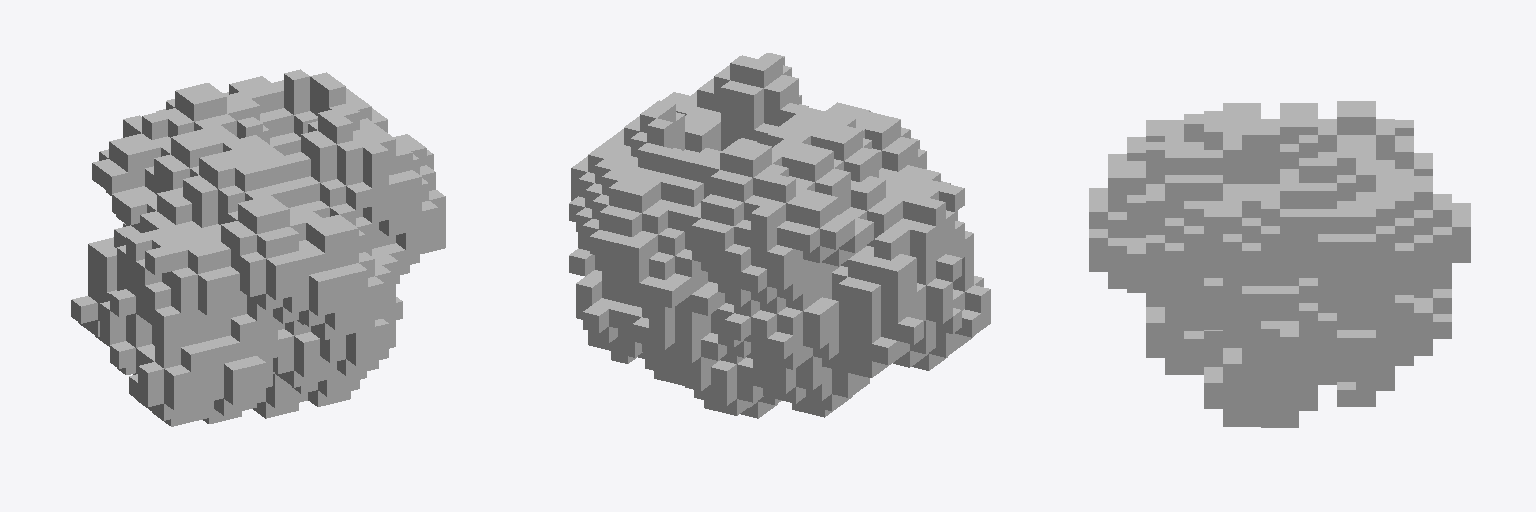
The model's file is a2empty.obj.
The picture shows the model from 3 angles: view 1: azimuth 30°, elevation 25°; view 2: azimuth 150°, elevation 25°; view 3: azimuth 270°, elevation 25°; orthographic projection.
Visible parts, largest first — view 1: object 1; view 2: object 1; view 3: object 1.
Boxes of the visible parts, box(x1,y1,x2,y2) form: object 1: box(71, 69, 445, 426); object 1: box(569, 53, 990, 418); object 1: box(1089, 101, 1470, 427).
Bounding box in the file's own units: 2 × 1.8 × 2.